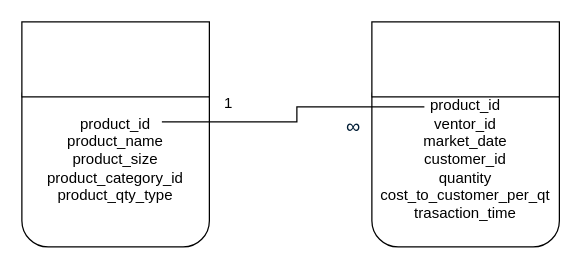
Some shapes in this 581 by 269 pixel diagram are drawn without their labels. Each missing label, with the box of its shape:
Customer Purchases: (371, 21, 559, 97)
Product: (21, 21, 209, 97)
